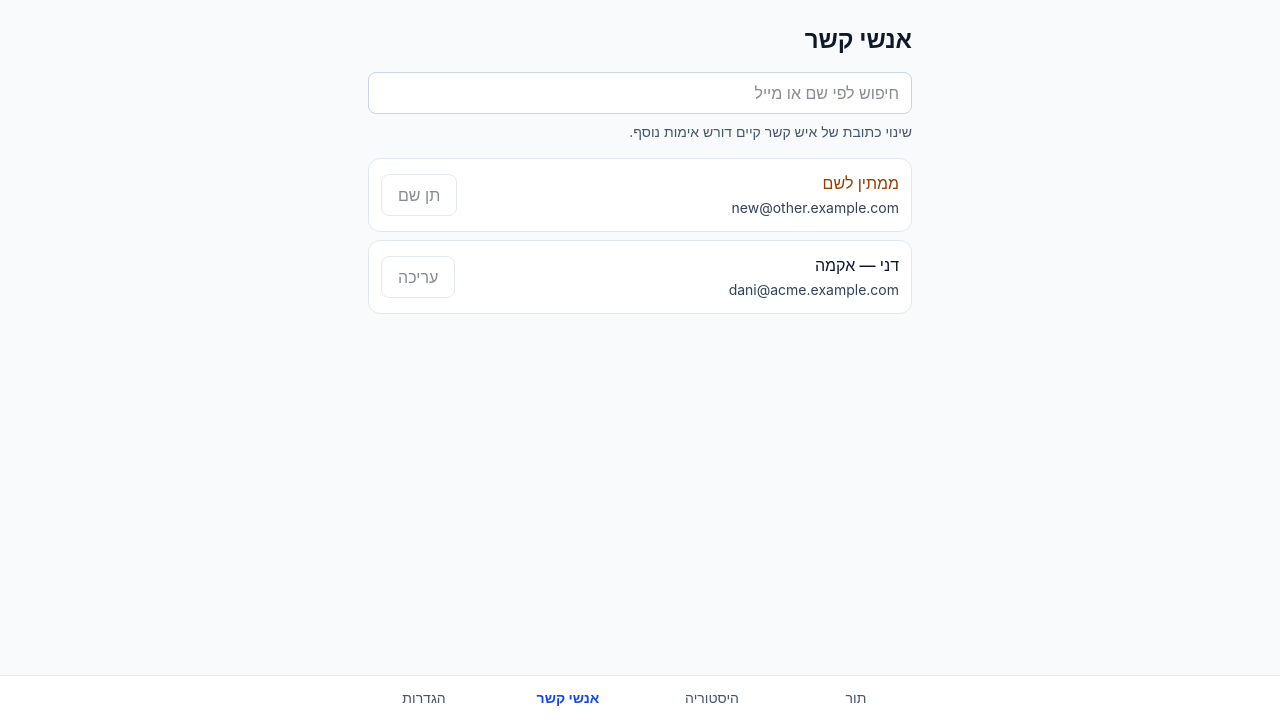
Scenario: contacts › filters by name or email
Type "acme" into the search field named "חיפוש אנשי קשר" at (640, 93), box [368,72,912,114]
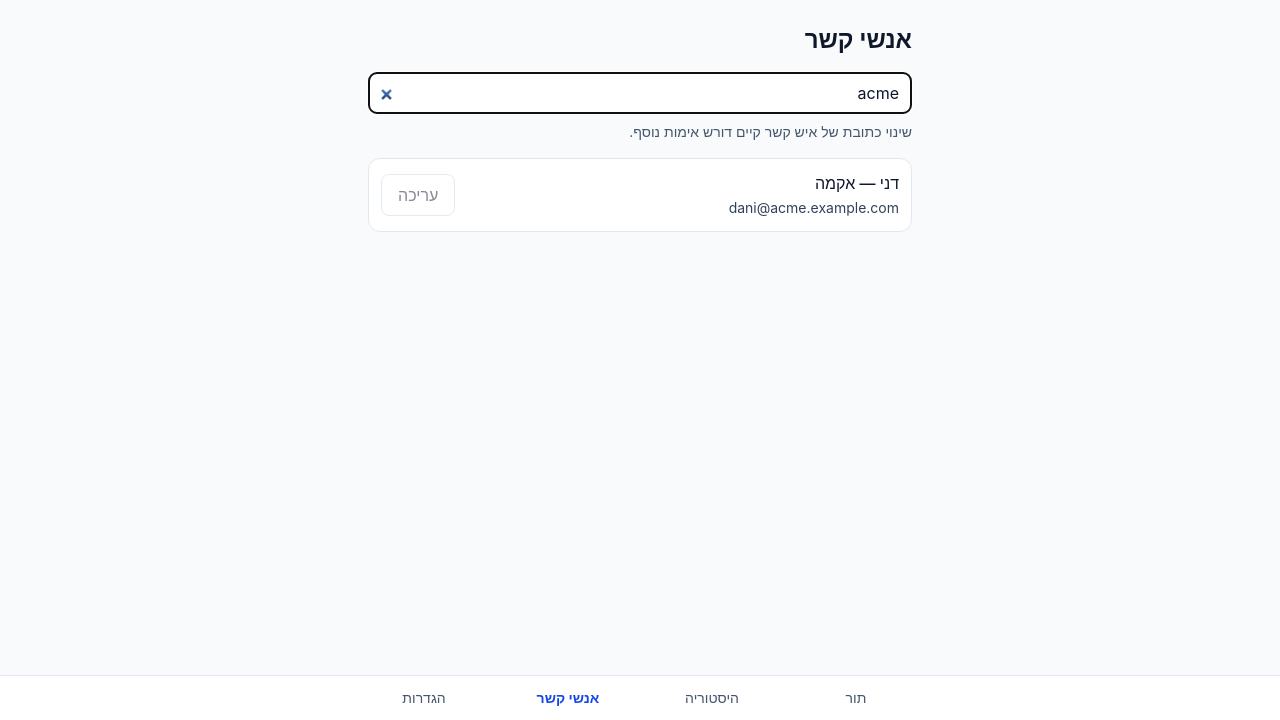
Expected: the text "dani@acme.example.com" is shown, [729,199,899,216]
Result: the text "new@other.example.com" is gone
